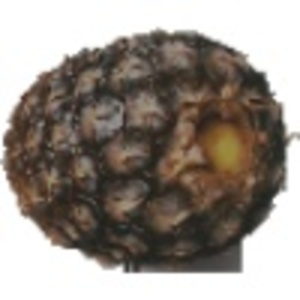abacaxi: (1, 27, 291, 268)
